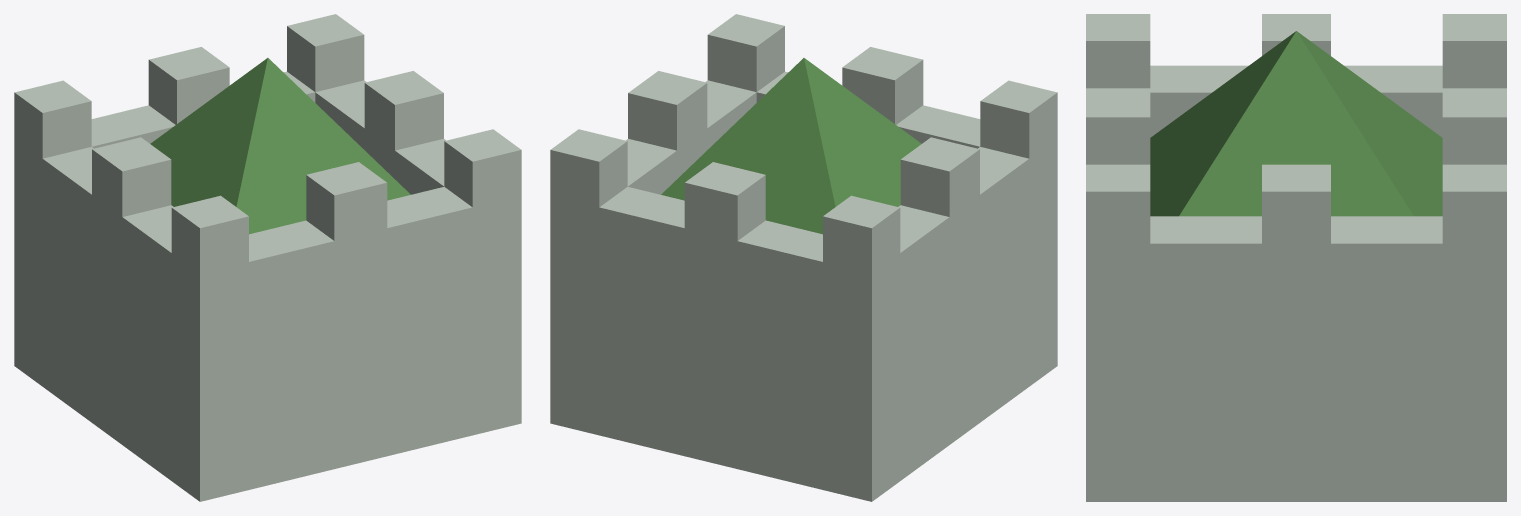
Rendered from tile_027.obj.
The picture shows the model from 3 angles, left to right: view 1: azimuth 30°, elevation 25°; view 2: azimuth 150°, elevation 25°; view 3: azimuth 270°, elevation 25°; orthographic projection. The views are drawn at different scales.
Parts seen in each view (by area): view 1: tile_027, Group; view 2: tile_027, Group; view 3: tile_027, Group.
Part boxes in pixels (box(x1,y1,x2,y2)): tile_027: box(14, 14, 521, 501); Group: box(150, 58, 410, 234); tile_027: box(550, 14, 1057, 501); Group: box(661, 58, 921, 234); tile_027: box(1086, 14, 1506, 501); Group: box(1150, 31, 1442, 216).
Size of the model in its own units: 0.5901 by 0.5914 by 0.5901.
